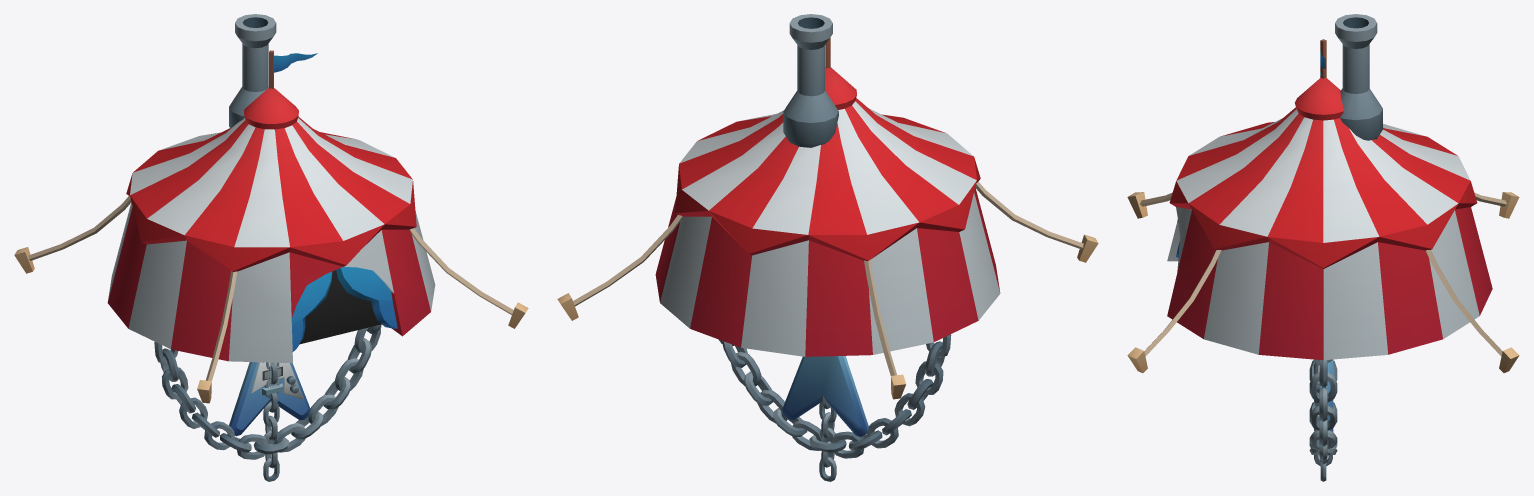
File: mixed.glb
The picture shows the model from 3 angles, left to right: view 1: azimuth 30°, elevation 25°; view 2: azimuth 150°, elevation 25°; view 3: azimuth 270°, elevation 25°; orthographic projection. The views are drawn at different scales.
Parts seen in each view (by area): view 1: circus_tent__circus_tent, chain_hanging_B__chain_hanging_B, guitar_A__guitar_A, woodstove__woodstove, chain_hanging_A__chain; view 2: circus_tent__circus_tent, chain_hanging_B__chain_hanging_B, woodstove__woodstove, guitar_A__guitar_A, chain_hanging_A__chain; view 3: circus_tent__circus_tent, woodstove__woodstove, chain_hanging_B__chain_hanging_B.
Part boxes in pixels (x1=…): circus_tent__circus_tent: x1=14, y1=50, x2=528, y2=403; chain_hanging_B__chain_hanging_B: x1=154, y1=324, x2=381, y2=459; guitar_A__guitar_A: x1=229, y1=362, x2=310, y2=436; woodstove__woodstove: x1=229, y1=14, x2=276, y2=128; chain_hanging_A__chain: x1=263, y1=362, x2=279, y2=481; circus_tent__circus_tent: x1=557, y1=38, x2=1098, y2=399; chain_hanging_B__chain_hanging_B: x1=718, y1=334, x2=951, y2=458; woodstove__woodstove: x1=783, y1=14, x2=838, y2=147; guitar_A__guitar_A: x1=782, y1=356, x2=868, y2=436; chain_hanging_A__chain: x1=819, y1=396, x2=836, y2=481; circus_tent__circus_tent: x1=1127, y1=39, x2=1519, y2=372; woodstove__woodstove: x1=1335, y1=14, x2=1382, y2=140; chain_hanging_B__chain_hanging_B: x1=1309, y1=359, x2=1337, y2=464.
Bounding box in the file's own units: 3.48 × 4.48 × 3.48.
3 materials, 2 textured.
